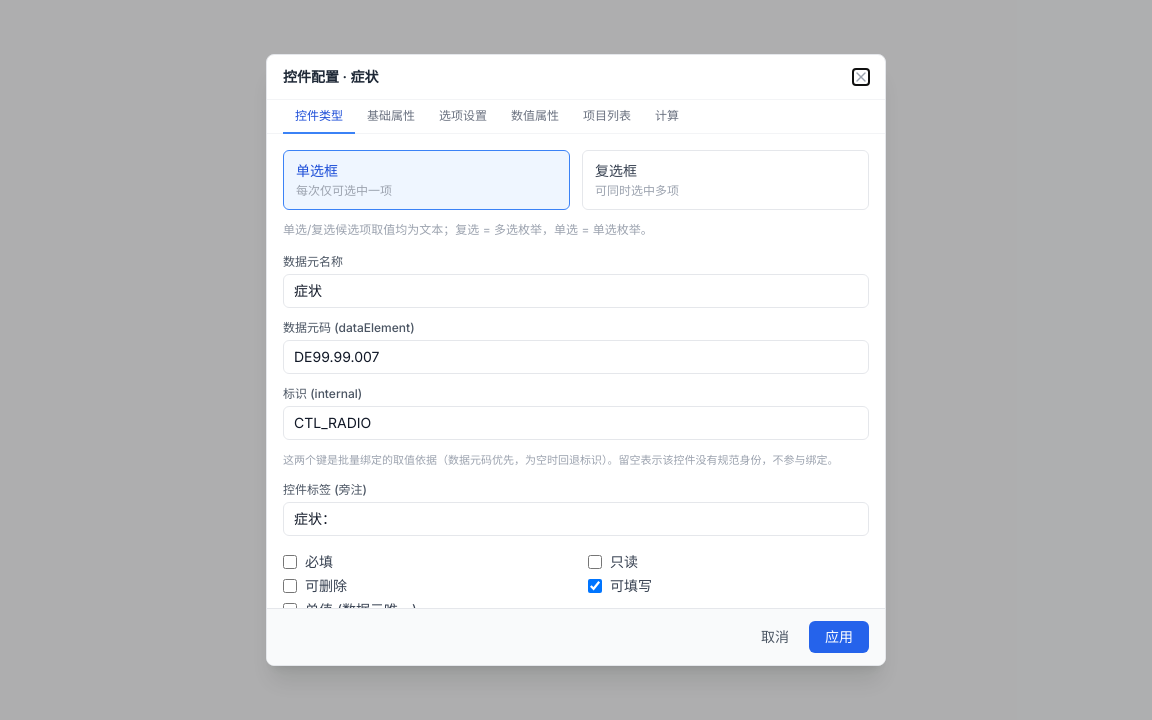
Test: ControlChoiceDialog — 计算 (契约 §12.12.9) › 「计算」tab 打开时回填既有公式
What coordinates should you click on to do the following:
click the tab "计算"
I would click on:
 (667, 117)
Its box is [643,100,691,134].
(page scrolled)
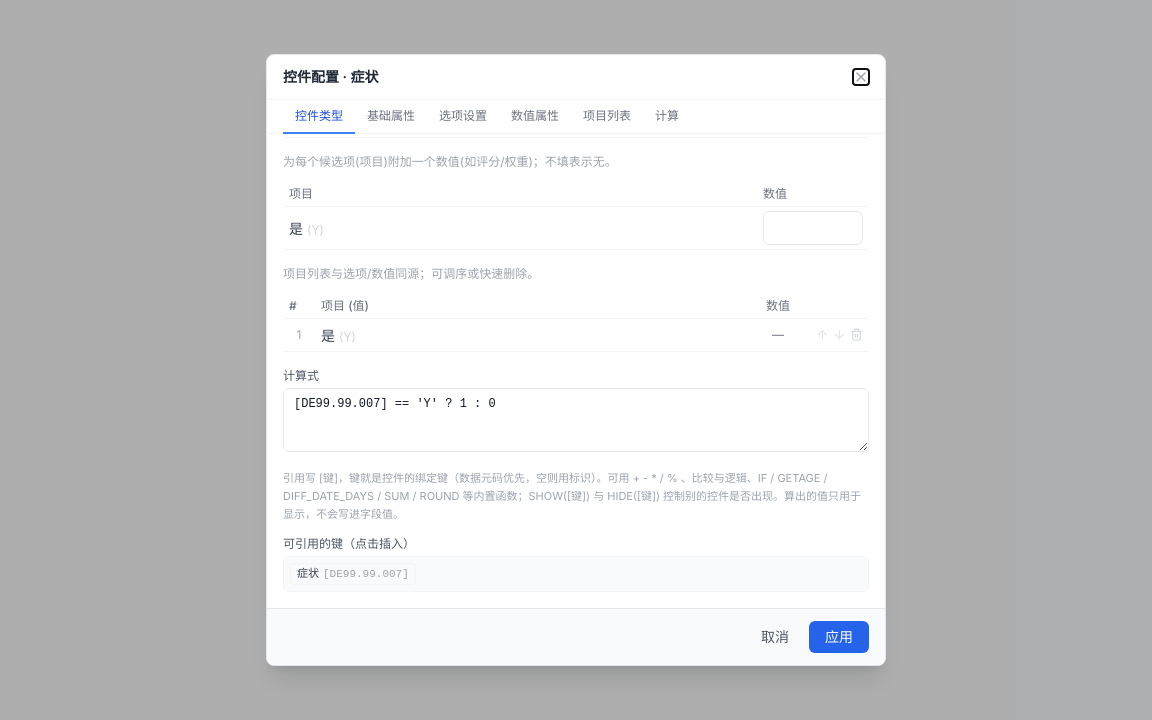
Now the text box with placeholder "例如: [收缩压] + [舒张压]" holds "[DE99.99.007] == 'Y' ? 1 : 0", box [283,388,869,452]
